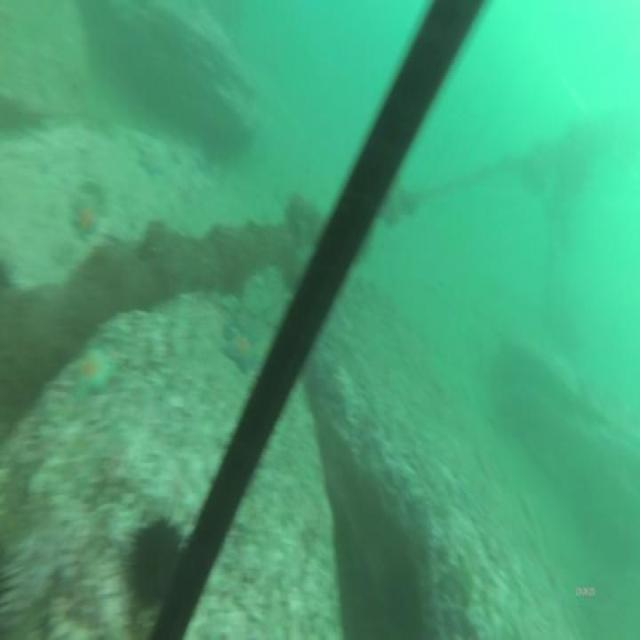echinus: (116, 499, 190, 616)
starfish: (71, 338, 120, 405), (223, 319, 261, 378), (70, 199, 102, 242)
